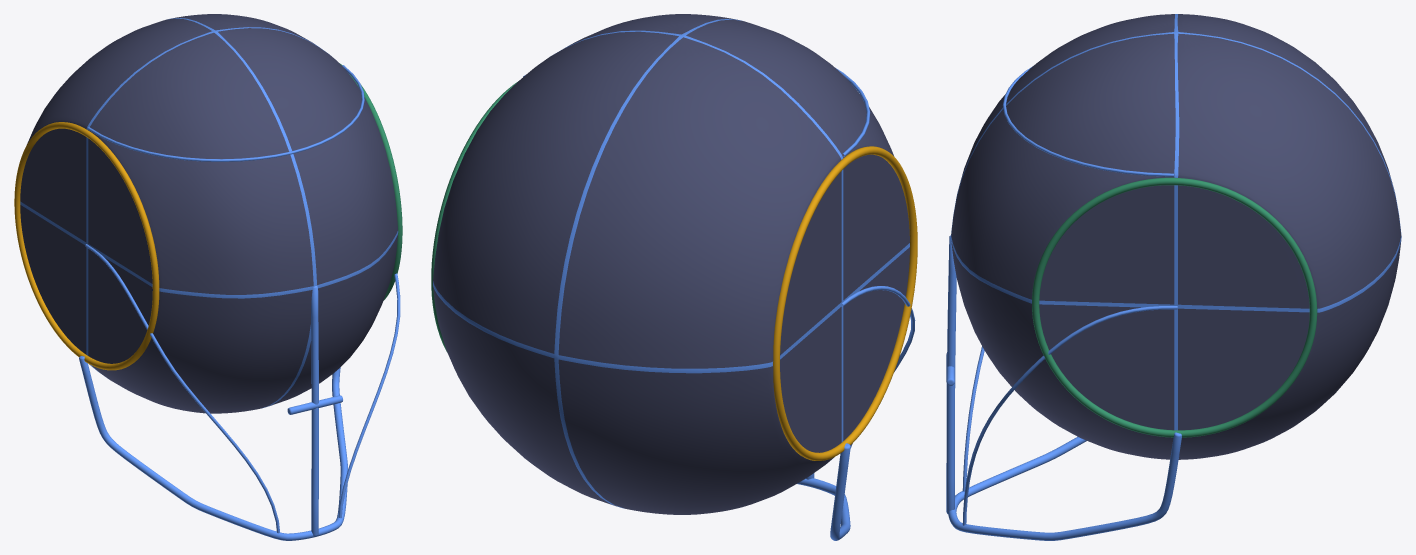
Rendered from LoomisHead.obj.
The picture shows the model from 3 angles, left to right: view 1: azimuth 30°, elevation 25°; view 2: azimuth 150°, elevation 25°; view 3: azimuth 270°, elevation 25°; orthographic projection. The views are drawn at different scales.
Visible parts, largest first — view 1: Sphere, Plane.001_Mesh, NurbsCircle, BezierCurve.001_BezierCurve.002, BezierCurve.002_BezierCurve.003, BezierCurve; view 2: Sphere, NurbsCircle, Plane.001_Mesh, BezierCurve.001_BezierCurve.002; view 3: Sphere, NurbsCircle, Plane.001_Mesh, BezierCurve, BezierCurve.002_BezierCurve.003, BezierCurve.001_BezierCurve.002.
Part boxes in pixels (<box>): Sphere: <box>20,14,398,413</box>; Plane.001_Mesh: <box>79,286,347,540</box>; NurbsCircle: <box>14,63,402,370</box>; BezierCurve.001_BezierCurve.002: <box>85,244,279,533</box>; BezierCurve.002_BezierCurve.003: <box>87,65,364,161</box>; BezierCurve: <box>338,273,400,518</box>; Sphere: <box>433,14,909,514</box>; NurbsCircle: <box>431,81,917,460</box>; Plane.001_Mesh: <box>797,443,850,540</box>; BezierCurve.001_BezierCurve.002: <box>842,286,915,447</box>; Sphere: <box>951,14,1401,459</box>; NurbsCircle: <box>1032,177,1317,437</box>; Plane.001_Mesh: <box>946,235,1181,540</box>; BezierCurve: <box>962,306,1177,525</box>; BezierCurve.002_BezierCurve.003: <box>1003,66,1173,176</box>; BezierCurve.001_BezierCurve.002: <box>962,346,984,491</box>.
Size of the model in its own units: 4.78 by 7.11 by 6.06.
